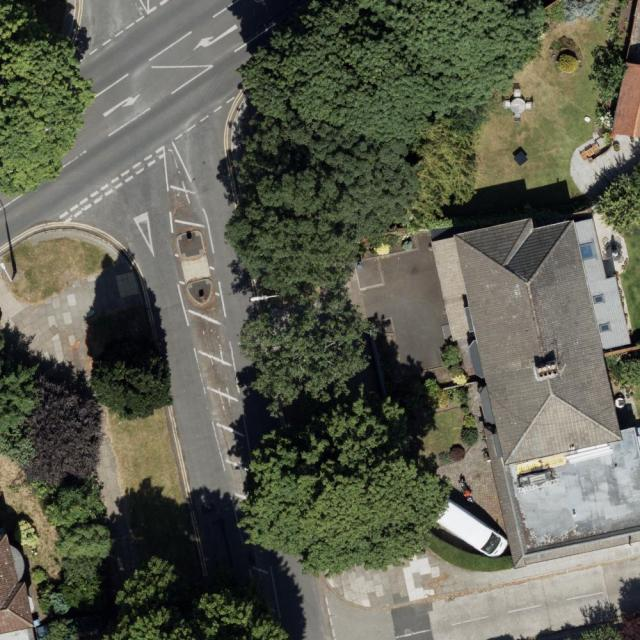roof: (451, 215, 640, 547), (0, 534, 37, 634), (608, 61, 640, 140)
skylight: (578, 238, 596, 260), (597, 319, 612, 334), (592, 294, 604, 306)
